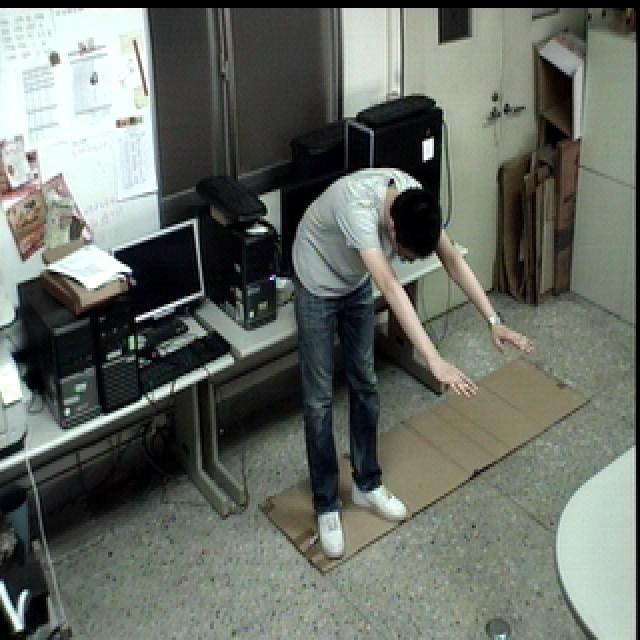bend: (286, 163, 536, 561)
